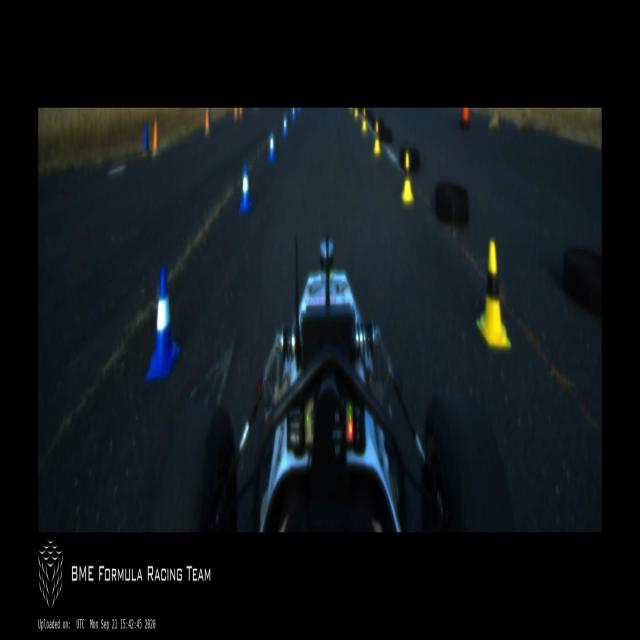blue_cone: (146, 264, 180, 382), (240, 162, 252, 212), (268, 128, 276, 162), (282, 113, 288, 138), (291, 108, 296, 123)
unknown_cone: (143, 119, 149, 154), (153, 118, 158, 155), (204, 109, 210, 134)
yellow_cone: (476, 242, 512, 349), (401, 152, 414, 203), (374, 123, 382, 154), (361, 108, 367, 132), (354, 108, 359, 119)
